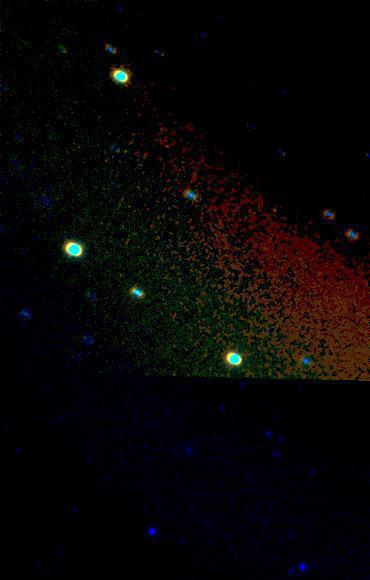star: (259, 196, 289, 226)
